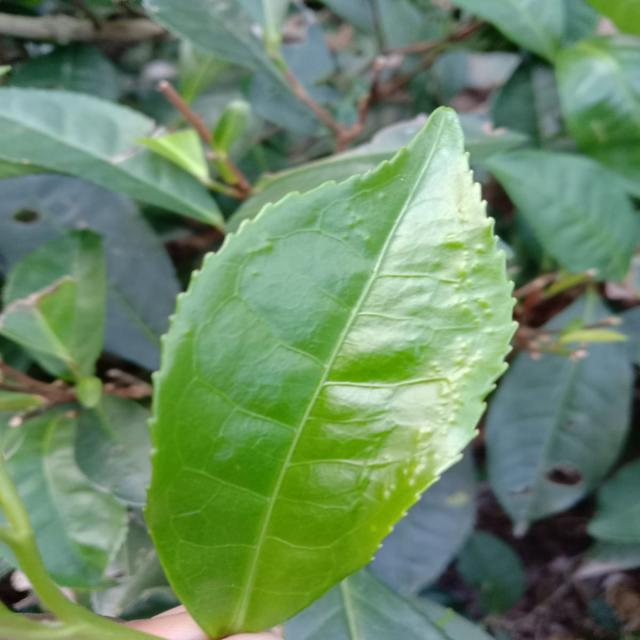Category C(4-7 days): (100, 76, 550, 640)
